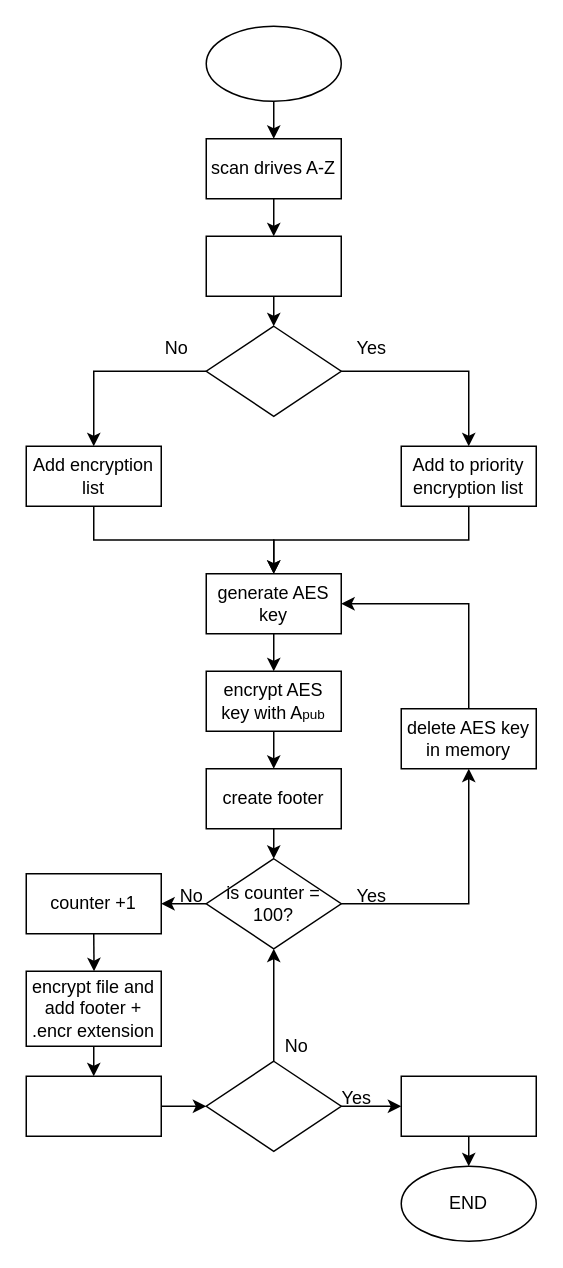
This 563x1268 diagram has some shape labels left out. Each missing label, with the centre of its shape:
"all files encrypted?" goes at pixel 273 1105.
"delete original file" goes at pixel 93 1105.
"Encryption process" goes at pixel 273 63.
"Get all files" goes at pixel 273 265.
"is file a Userfile?" goes at pixel 273 370.
"show ransomnote" goes at pixel 468 1105.
